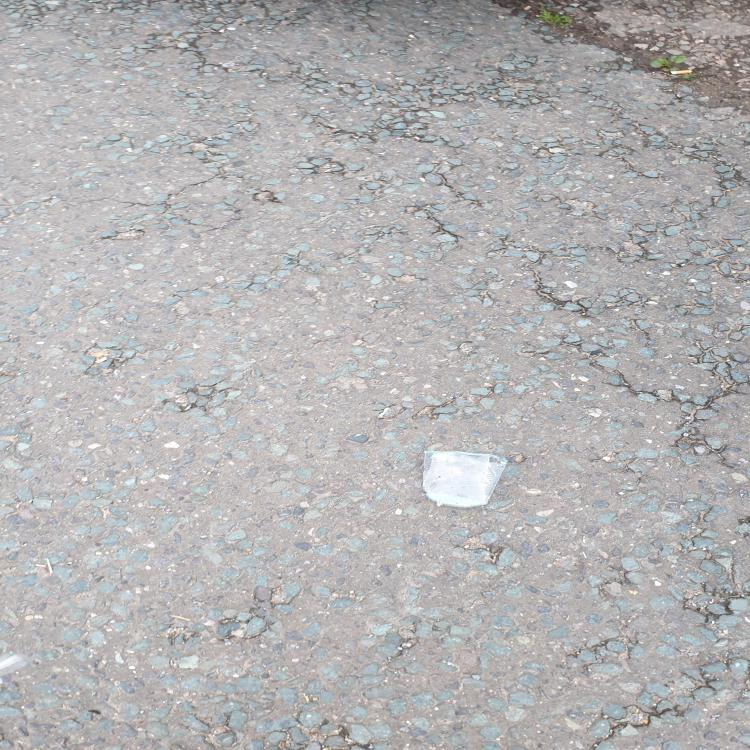Cigarette: (670, 70, 693, 75)
